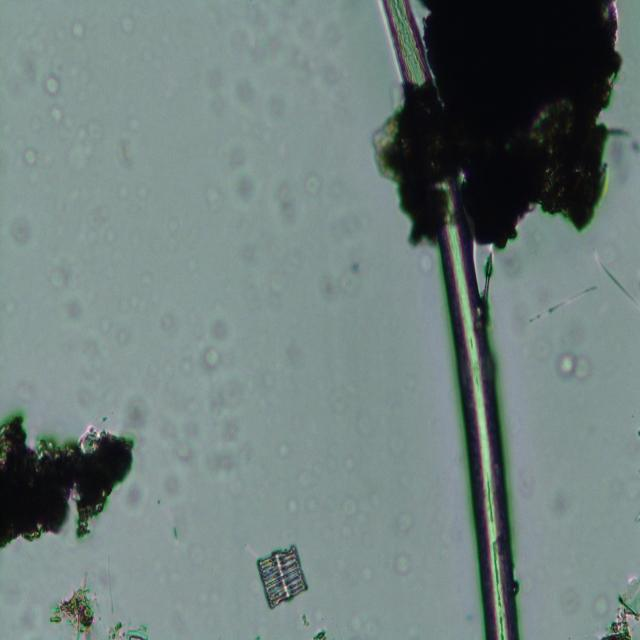Background material: (371, 0, 636, 245), (2, 404, 140, 549), (51, 574, 101, 640), (291, 24, 342, 84), (594, 582, 640, 640), (66, 113, 108, 172), (312, 257, 366, 300), (119, 266, 167, 314), (203, 374, 245, 422), (119, 387, 151, 442), (271, 175, 298, 229), (205, 447, 247, 481), (227, 170, 261, 210), (101, 616, 154, 640), (554, 352, 593, 381), (230, 71, 260, 106), (549, 483, 575, 520), (13, 44, 37, 84), (352, 613, 383, 640), (47, 265, 79, 290), (242, 35, 268, 64), (198, 177, 221, 208), (396, 544, 416, 579), (266, 88, 287, 121), (122, 480, 146, 508), (11, 214, 35, 242), (82, 338, 103, 366), (118, 140, 136, 170), (90, 202, 110, 228), (226, 144, 245, 170), (63, 302, 85, 324), (203, 348, 223, 372), (304, 171, 324, 195), (43, 72, 61, 98), (240, 244, 262, 265), (176, 440, 196, 463), (338, 498, 358, 518), (51, 46, 64, 76), (207, 69, 223, 92), (22, 147, 41, 166), (71, 18, 87, 40), (421, 252, 436, 275), (116, 327, 134, 346), (30, 30, 46, 51), (283, 496, 301, 514), (128, 112, 142, 135), (399, 512, 413, 533), (311, 625, 330, 640), (216, 320, 230, 340), (137, 180, 151, 200), (170, 521, 180, 544), (51, 108, 65, 124), (163, 311, 175, 329), (181, 357, 195, 372), (126, 18, 138, 34), (106, 230, 118, 243)
Diatom: (254, 542, 312, 614)
Glass filter fibre: (592, 247, 640, 312), (530, 284, 596, 323)
Hair textile: (384, 0, 521, 640)
